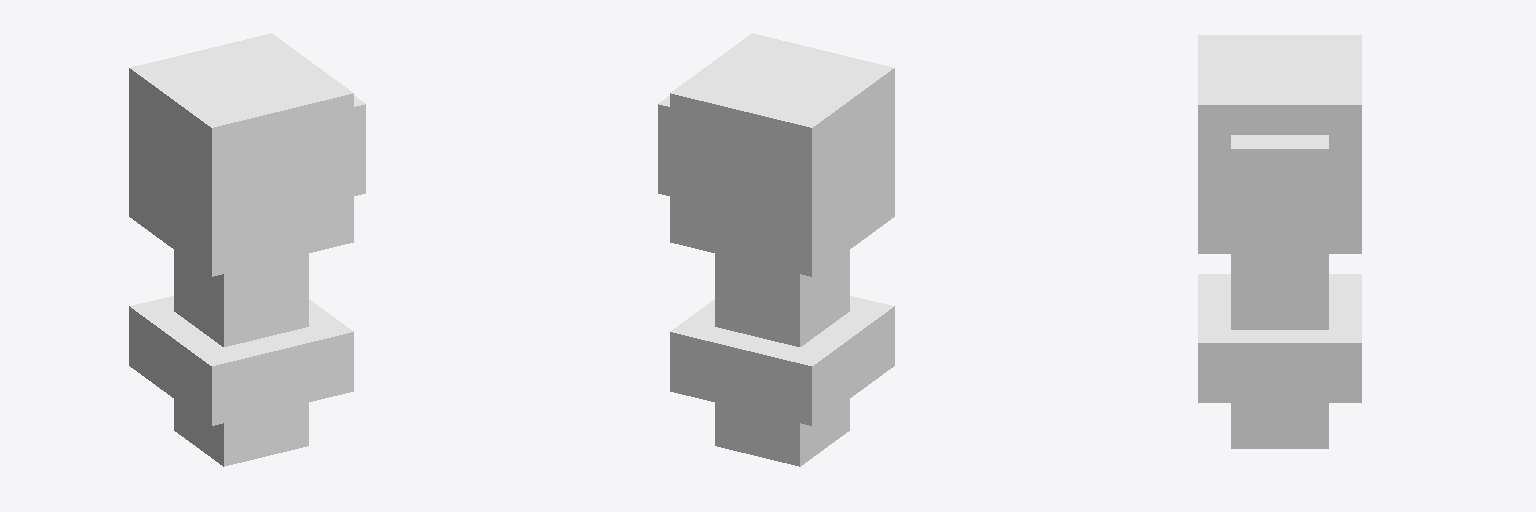
Rendered from Franky_BR.obj.
3 views of the same model, side by side, from view 1: azimuth 30°, elevation 25°; view 2: azimuth 150°, elevation 25°; view 3: azimuth 270°, elevation 25° (orthographic).
Visible parts, largest first — view 1: object 1; view 2: object 1; view 3: object 1.
Part boxes in pixels (bbox=[...]): object 1: bbox=[129, 33, 365, 466]; object 1: bbox=[658, 33, 894, 466]; object 1: bbox=[1198, 35, 1361, 448].
Size of the model in its own units: 0.6 by 1.2 by 0.5.